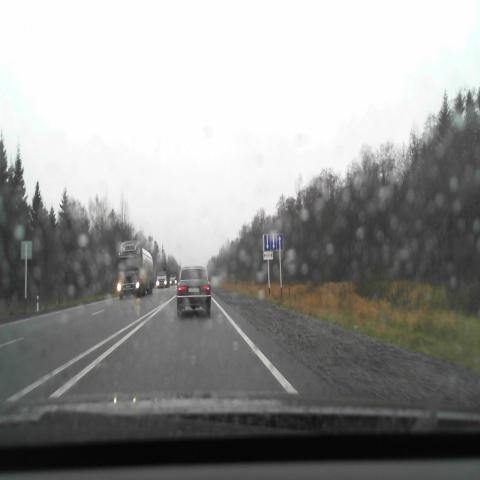5_15_7: (262, 234, 284, 252)
